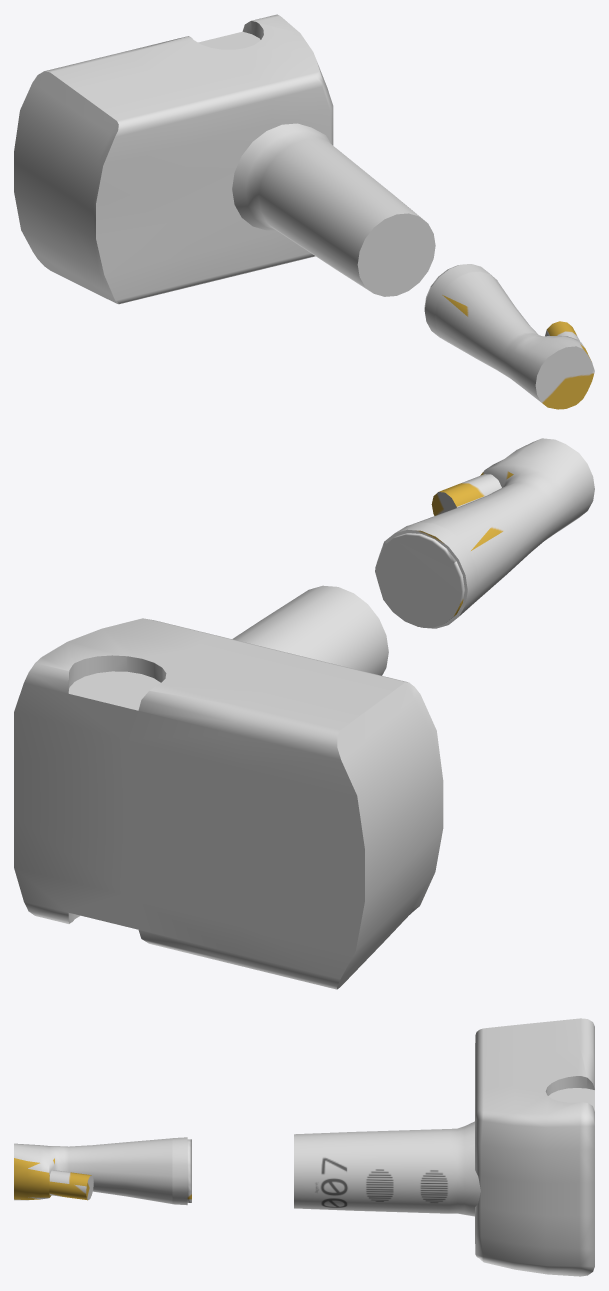
3 renders of one model, top to bottom at view 1: azimuth 30°, elevation 25°; view 2: azimuth 150°, elevation 25°; view 3: azimuth 270°, elevation 25°, orthographic. The views are drawn at different scales.
Visible parts, largest first — view 1: link_base.3obj.009, link_base.3obj.010, link_base.3obj.011; view 2: link_base.3obj.009, link_base.3obj.011, link_base.3obj.010, link_base.3obj.012; view 3: link_base.3obj.009, link_base.3obj.010, link_base.3obj.011, link_base.3obj.012.
Part boxes in pixels (x1,y1,x2,y2): link_base.3obj.009: [14, 14, 333, 304]; link_base.3obj.010: [232, 123, 435, 296]; link_base.3obj.011: [424, 264, 594, 409]; link_base.3obj.009: [14, 618, 443, 989]; link_base.3obj.011: [375, 438, 594, 628]; link_base.3obj.010: [232, 585, 388, 675]; link_base.3obj.012: [431, 474, 501, 515]; link_base.3obj.009: [475, 1018, 594, 1276]; link_base.3obj.010: [294, 1121, 480, 1216]; link_base.3obj.011: [14, 1137, 191, 1205]; link_base.3obj.012: [49, 1170, 93, 1200].
Bounding box in the file's own units: 0.54 × 0.3776 × 1.21.
1 material, 1 textured.
